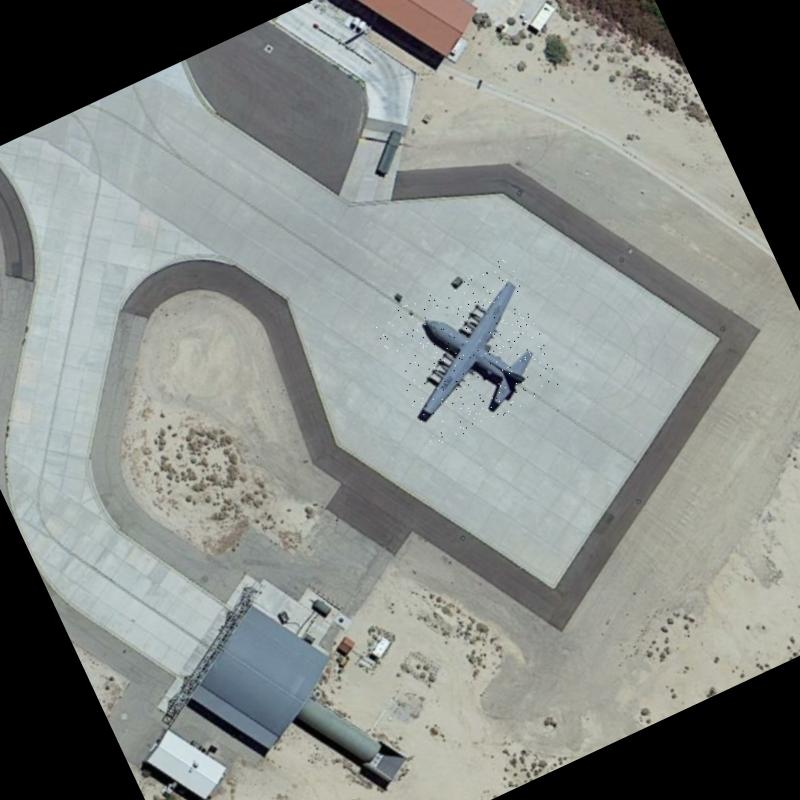A2: (372, 256, 568, 449)
